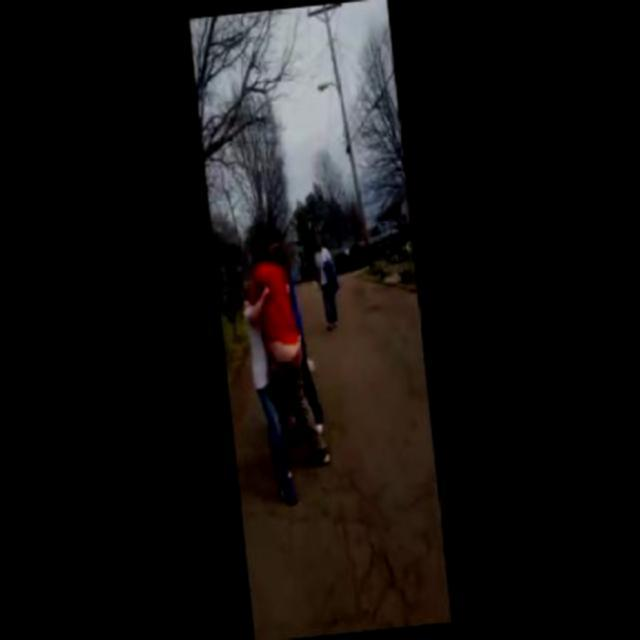fight: (234, 243, 318, 420)
non-fight: (307, 232, 341, 325)
